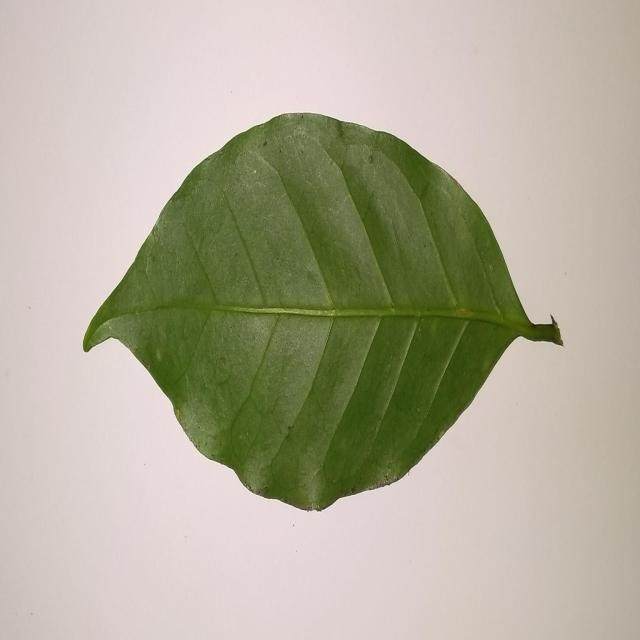nodisease: (83, 113, 563, 511)
